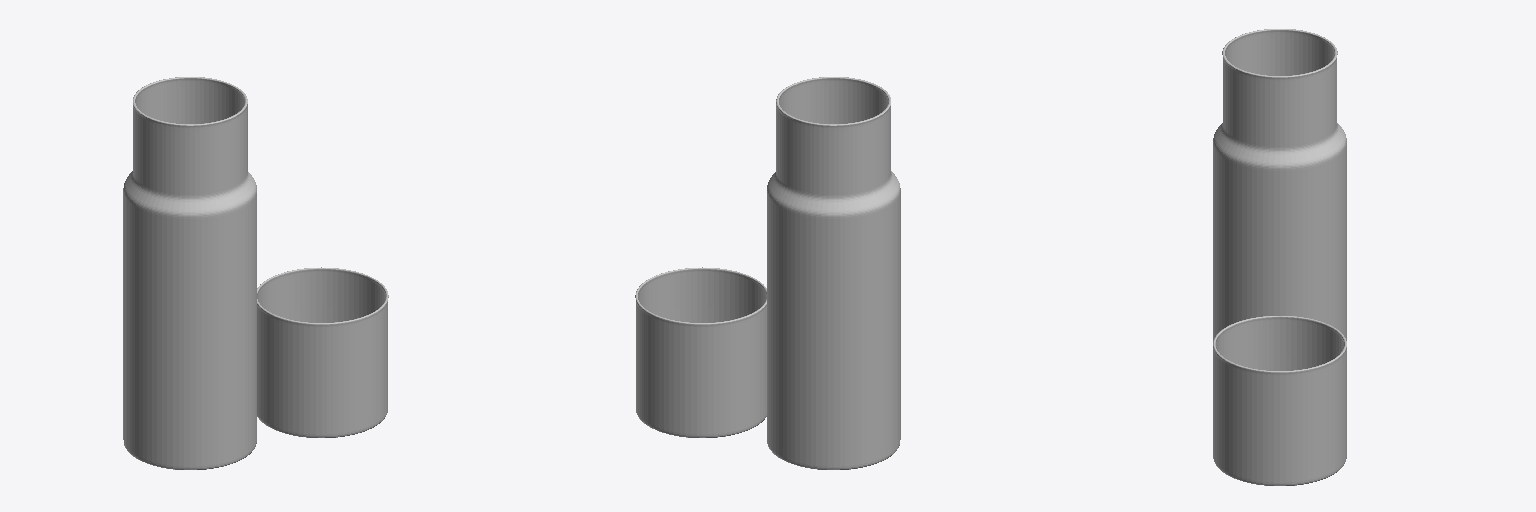
Rendered from Water Carafe & Glass.obj.
The picture shows the model from 3 angles: view 1: azimuth 30°, elevation 25°; view 2: azimuth 150°, elevation 25°; view 3: azimuth 270°, elevation 25°; orthographic projection.
Parts seen in each view (by area): view 1: Water_Carafe___Glass_01, Water_Carafe___Glass_00; view 2: Water_Carafe___Glass_01, Water_Carafe___Glass_00; view 3: Water_Carafe___Glass_01, Water_Carafe___Glass_00.
Boxes of the visible parts, x1=… form: Water_Carafe___Glass_01: x1=123, y1=77, x2=256, y2=469; Water_Carafe___Glass_00: x1=257, y1=267, x2=388, y2=437; Water_Carafe___Glass_01: x1=767, y1=77, x2=900, y2=469; Water_Carafe___Glass_00: x1=635, y1=267, x2=766, y2=437; Water_Carafe___Glass_01: x1=1213, y1=29, x2=1346, y2=340; Water_Carafe___Glass_00: x1=1213, y1=316, x2=1346, y2=485.
Bounding box in the file's own units: 19.24 × 25.47 × 9.03.